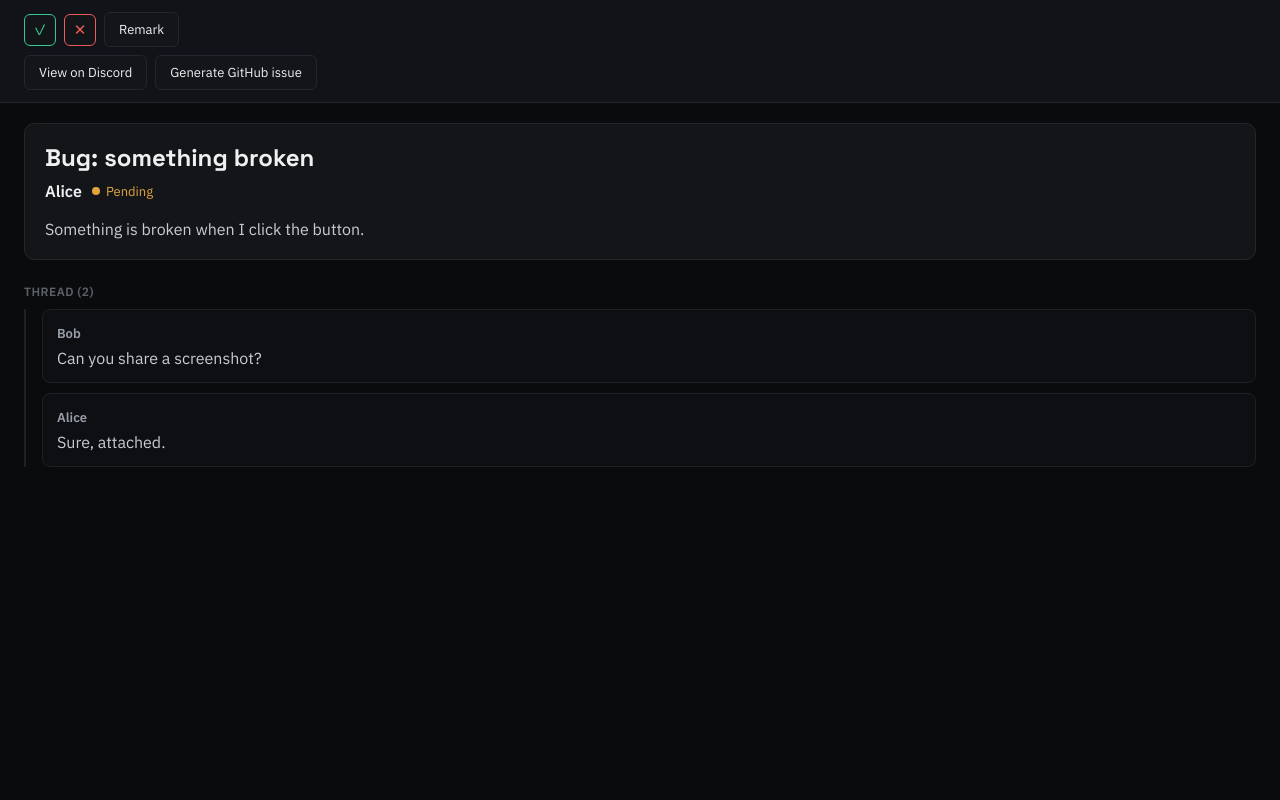
it: PostDetail — standalone remark › shows an error and keeps the entered text when sending fails
Click the button "Remark": (142, 30) x1=104 y1=12 x2=179 y2=47
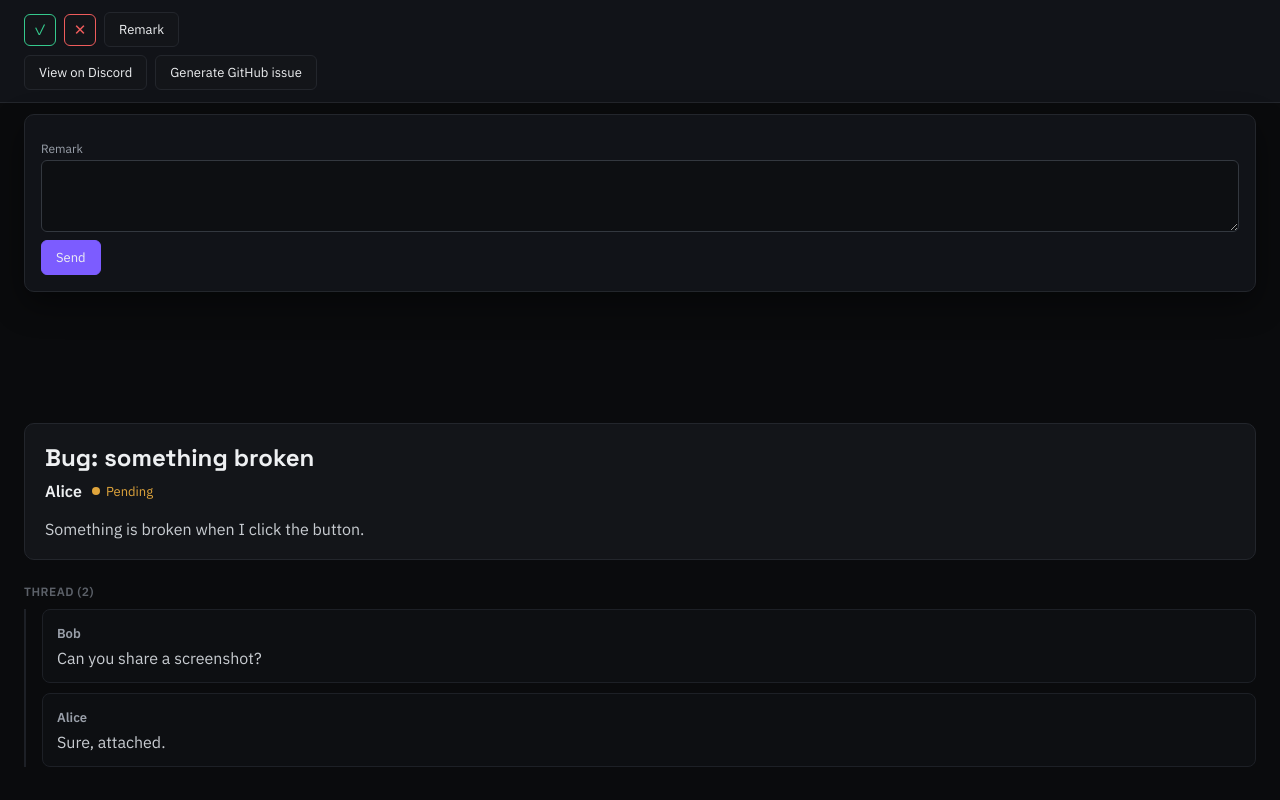
In the text box labelled "Remark": (640, 196) x1=41 y1=160 x2=1239 y2=232, type "Any update?"
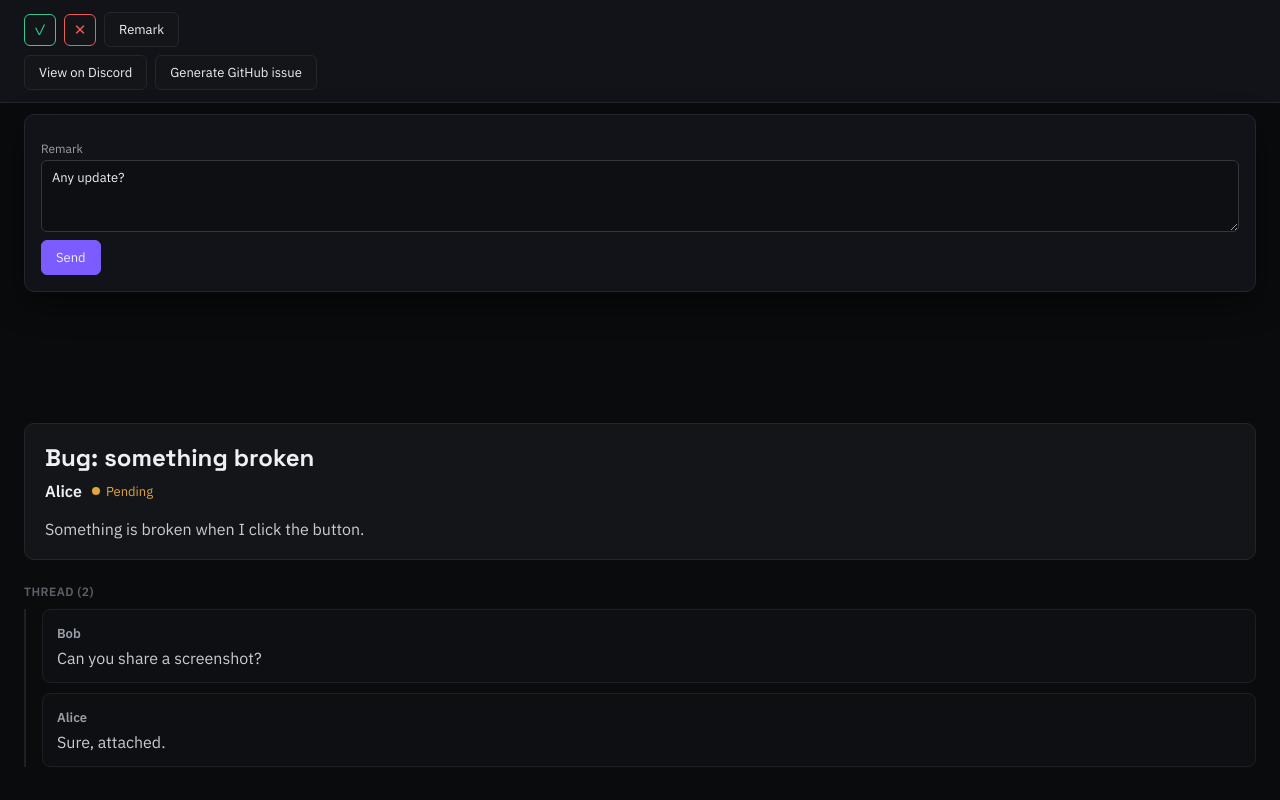
Click the button "Send": (71, 258) x1=41 y1=240 x2=101 y2=275
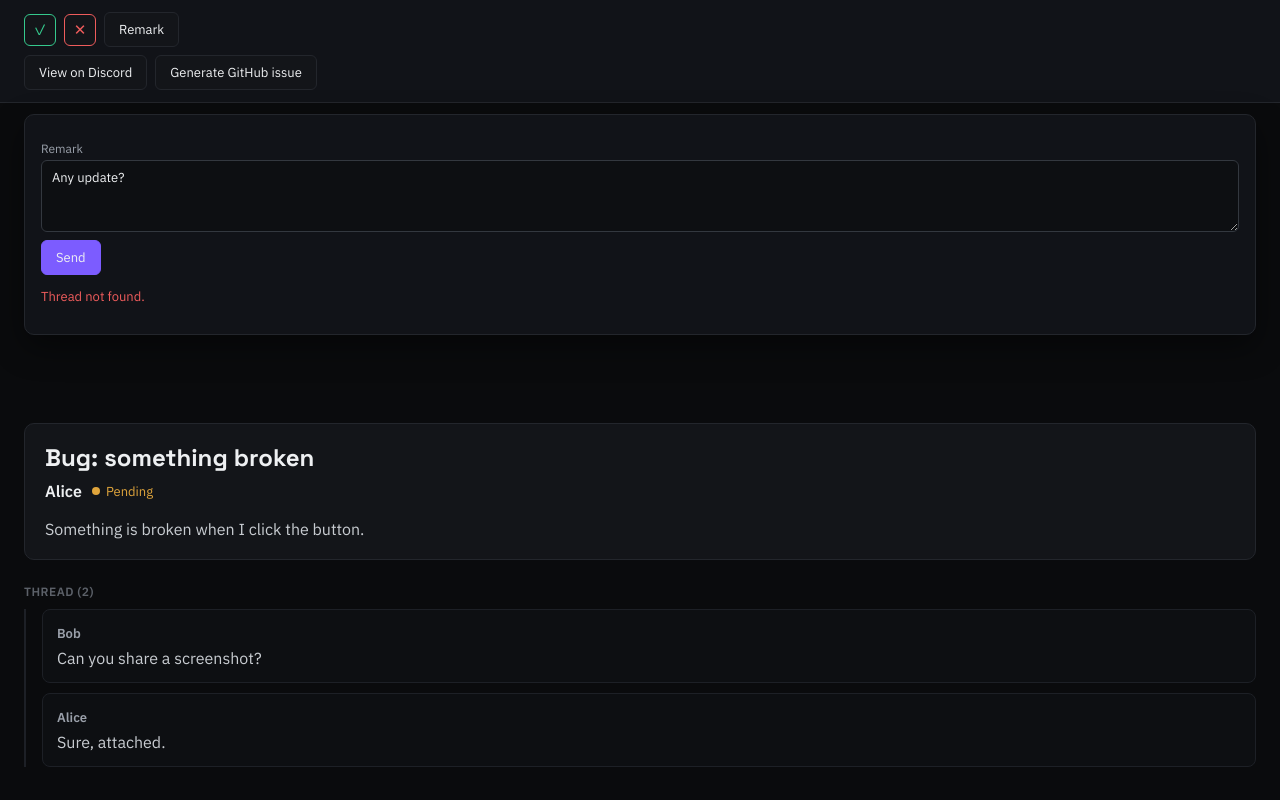
Result: the message reads "Thread not found." at x1=41 y1=288 x2=145 y2=305
